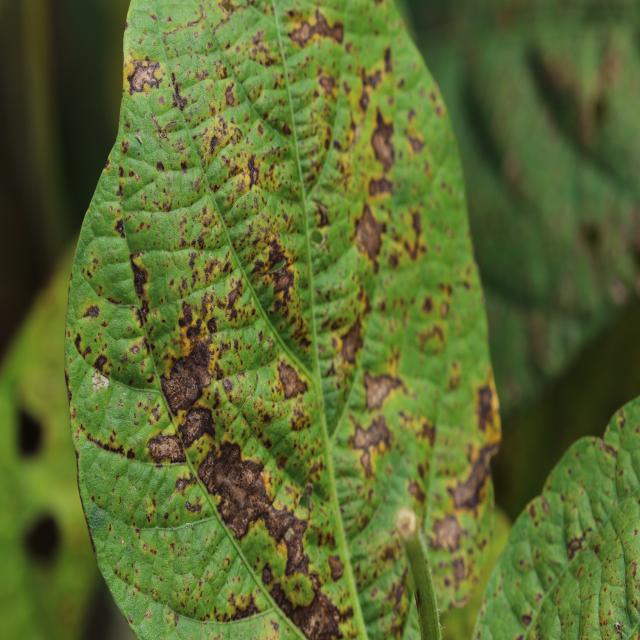Bacterial_Blight: (205, 448, 273, 536), (344, 402, 392, 486), (159, 345, 216, 415), (208, 4, 271, 63), (284, 585, 339, 640), (124, 43, 167, 107), (177, 198, 226, 253), (287, 11, 339, 50), (354, 202, 386, 264), (162, 3, 210, 40), (369, 109, 396, 173), (337, 312, 366, 370), (79, 428, 133, 459), (364, 371, 404, 410), (430, 512, 465, 553), (264, 260, 297, 302), (276, 359, 309, 400), (415, 321, 449, 355), (128, 253, 150, 302), (475, 383, 497, 432), (196, 450, 221, 491), (452, 476, 481, 510), (228, 591, 259, 619), (247, 153, 263, 190), (225, 279, 243, 311), (312, 200, 331, 228), (327, 554, 345, 582), (138, 538, 159, 559), (178, 301, 194, 328), (224, 83, 238, 107), (92, 353, 108, 373), (81, 304, 100, 320), (174, 476, 191, 493), (421, 295, 434, 313), (114, 217, 125, 238), (206, 316, 218, 334), (414, 588, 422, 611), (303, 482, 313, 498), (128, 343, 141, 355), (120, 140, 129, 154), (156, 160, 165, 172), (180, 159, 188, 172), (144, 609, 152, 620), (444, 577, 451, 588), (163, 511, 169, 520), (118, 401, 124, 409), (120, 538, 125, 545)
Soybean: (61, 0, 512, 640)
